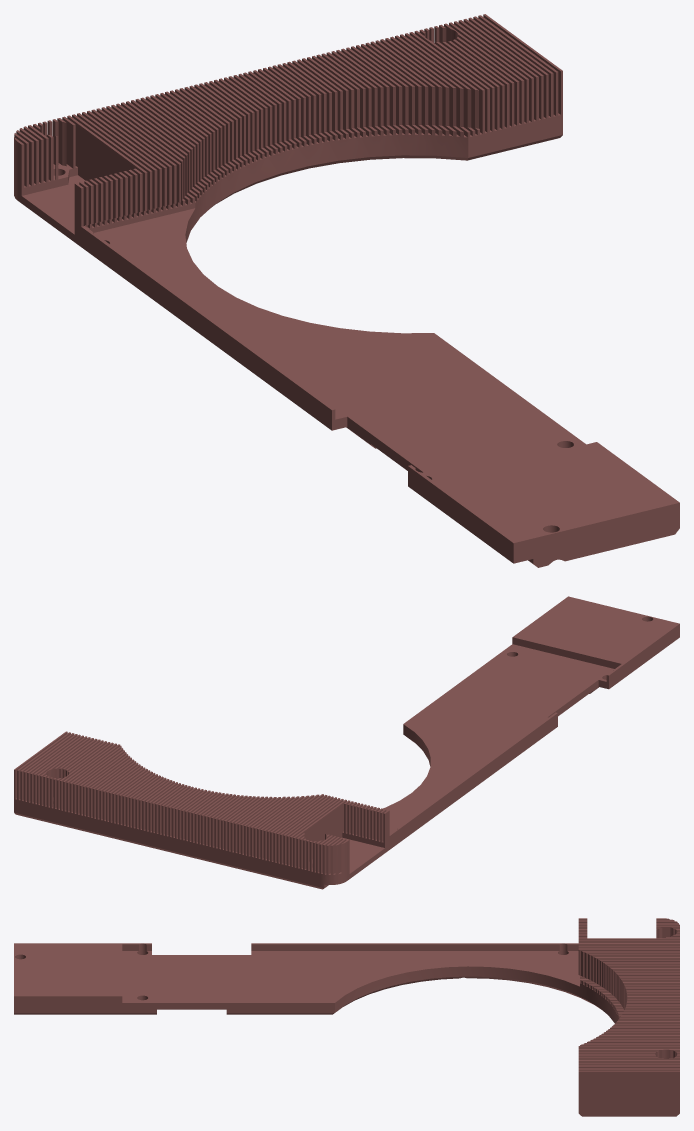
File: copper_plate_3.dae
3 renders of one model, top to bottom at view 1: azimuth 30°, elevation 25°; view 2: azimuth 150°, elevation 25°; view 3: azimuth 270°, elevation 25°, orthographic. The views are drawn at different scales.
Visible parts, largest first — view 1: copper_plate_3; view 2: copper_plate_3; view 3: copper_plate_3.
Boxes of the visible parts, x1,y1,x2,y2 form: copper_plate_3: (14,14,679,567); copper_plate_3: (14,596,679,889); copper_plate_3: (14,918,679,1116).
Size of the model in its own units: 0.9845 by 0.135 by 1.81.
